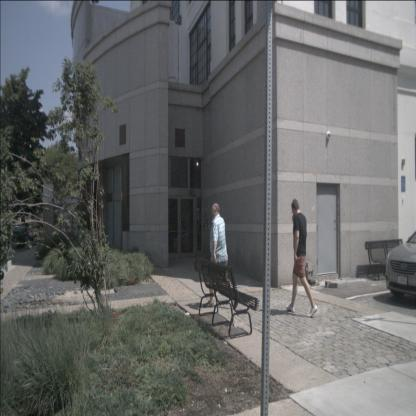human-pedestrian-adult: (286, 198, 318, 318), (203, 202, 238, 308)
vehicle-car: (385, 230, 416, 298)
vehicle-truck: (0, 213, 34, 248)
